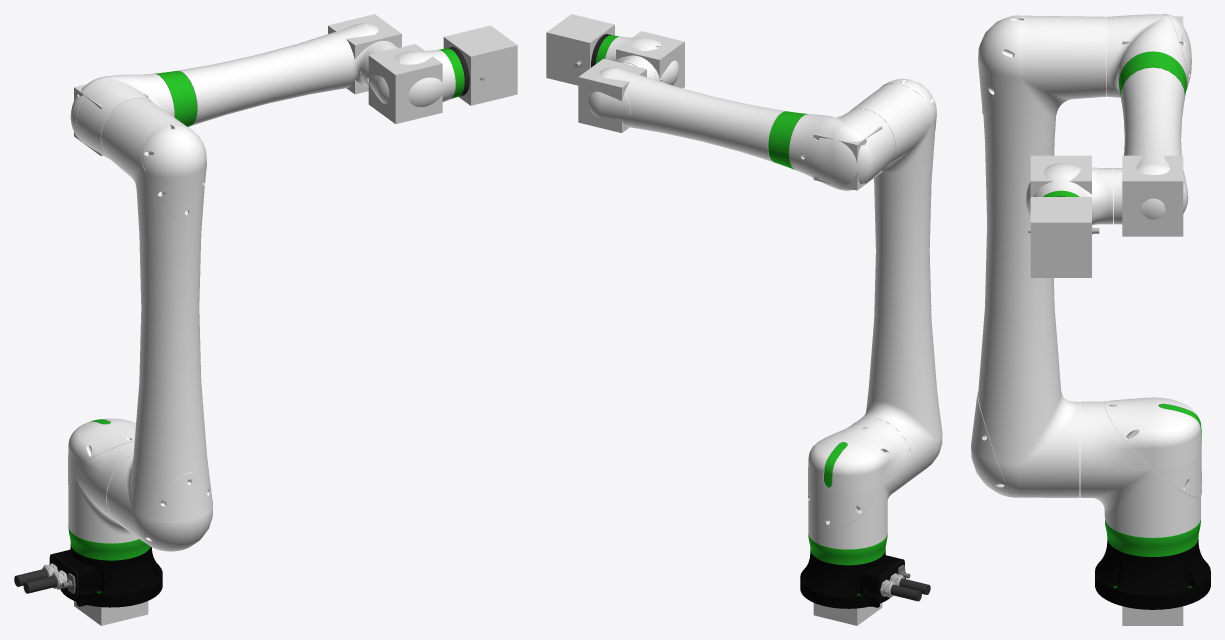
Rendered from Fanuc CRX-10iA.fbx.
3 views of the same model, side by side, from view 1: azimuth 30°, elevation 25°; view 2: azimuth 150°, elevation 25°; view 3: azimuth 270°, elevation 25° (orthographic). The views are drawn at different scales.
Visible parts, largest first — view 1: Imported1 (×6), J6 axis, J5 axis, J4 axis, J0 - base; view 2: Imported1 (×6), J6 axis, J4 axis, J5 axis, J0 - base, J3 axis; view 3: Imported1 (×6), J6 axis, J4 axis, J5 axis, J0 - base.
Part boxes in pixels (bbox=[...]): Imported1 (×6): bbox=[53, 23, 464, 607]; J6 axis: bbox=[443, 25, 517, 105]; J5 axis: bbox=[368, 44, 442, 123]; J4 axis: bbox=[328, 14, 401, 94]; J0 - base: bbox=[74, 601, 148, 625]; Imported1 (×6): bbox=[588, 35, 942, 608]; J6 axis: bbox=[546, 14, 614, 85]; J4 axis: bbox=[578, 58, 646, 132]; J5 axis: bbox=[616, 31, 684, 88]; J0 - base: bbox=[813, 603, 882, 625]; J3 axis: bbox=[813, 116, 882, 190]; Imported1 (×6): bbox=[971, 14, 1210, 609]; J6 axis: bbox=[1030, 197, 1091, 277]; J4 axis: bbox=[1122, 155, 1183, 236]; J5 axis: bbox=[1030, 155, 1091, 196]; J0 - base: bbox=[1122, 606, 1183, 625].
Size of the model in its own units: 932 by 1075 by 393.
